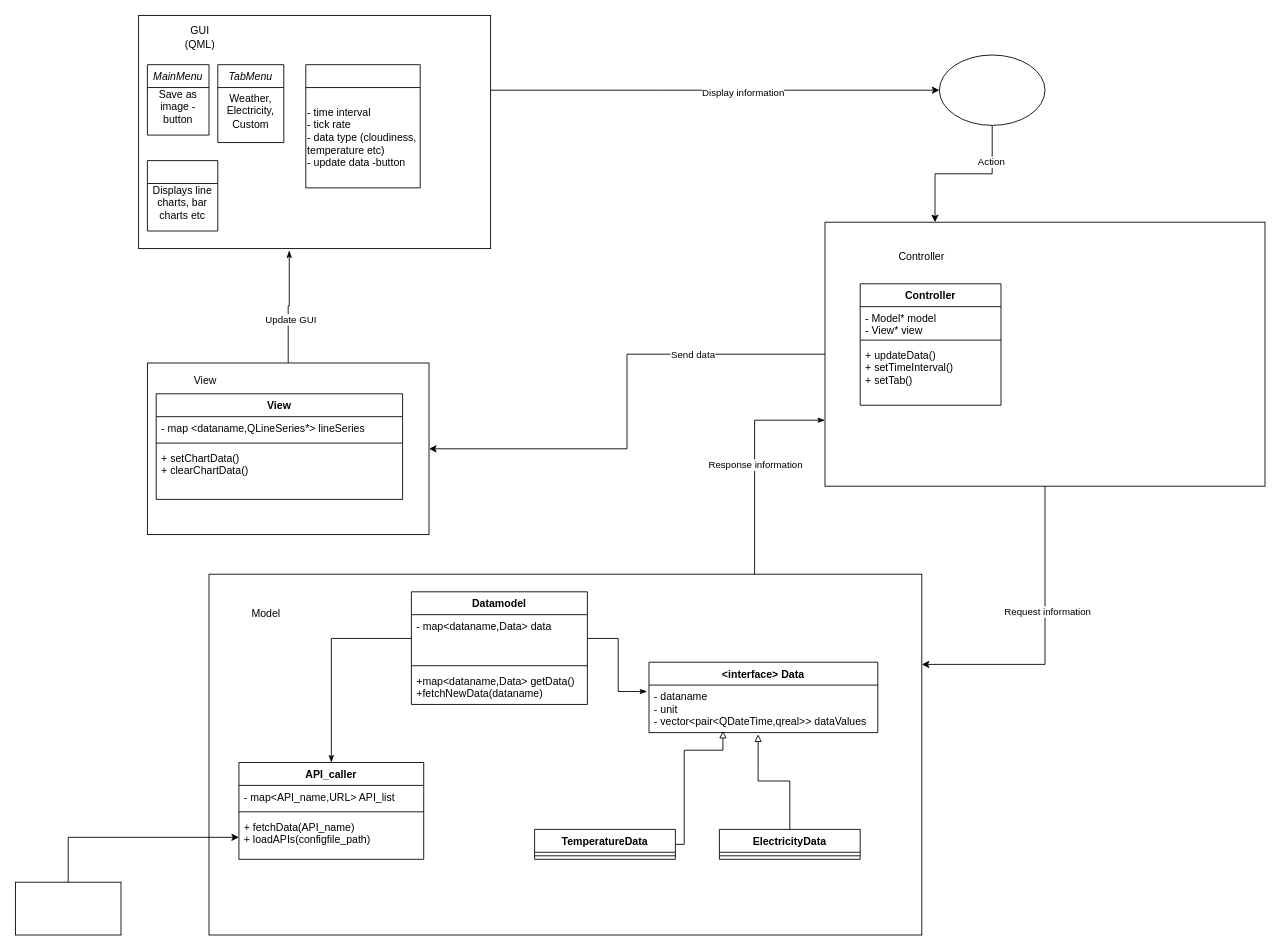
Some shapes in this 1280 by 950 pixel diagram are drawn without their labels. Here are the shapes that lost their labels. From the top down, the box of each, then its label:
(939, 54, 1045, 125): User
(305, 64, 420, 188): DataPanel
(147, 160, 218, 231): GraphView
(15, 881, 121, 935): API-configuration file
